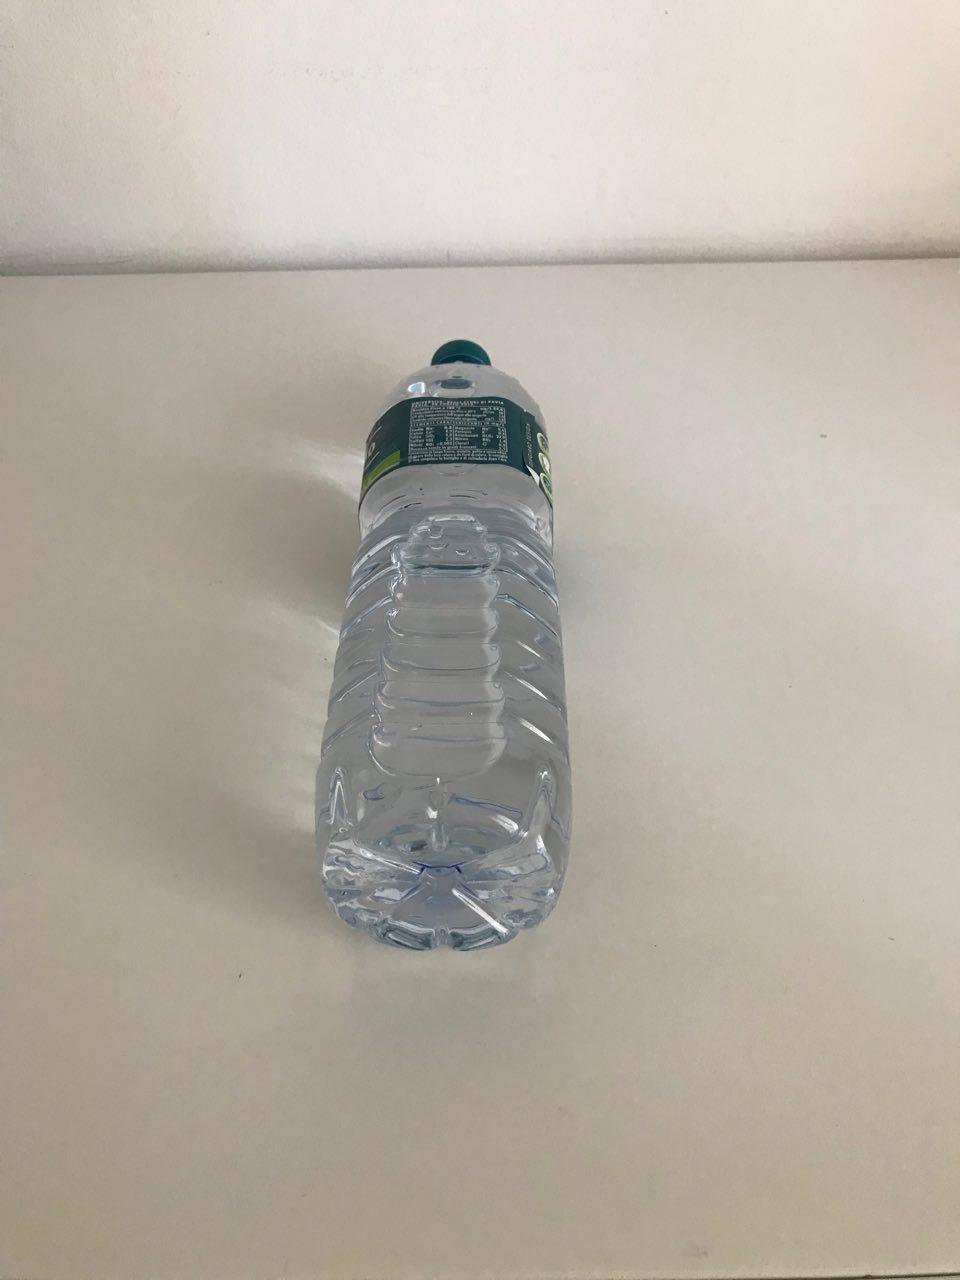san_bernardo: (311, 336, 575, 953)
